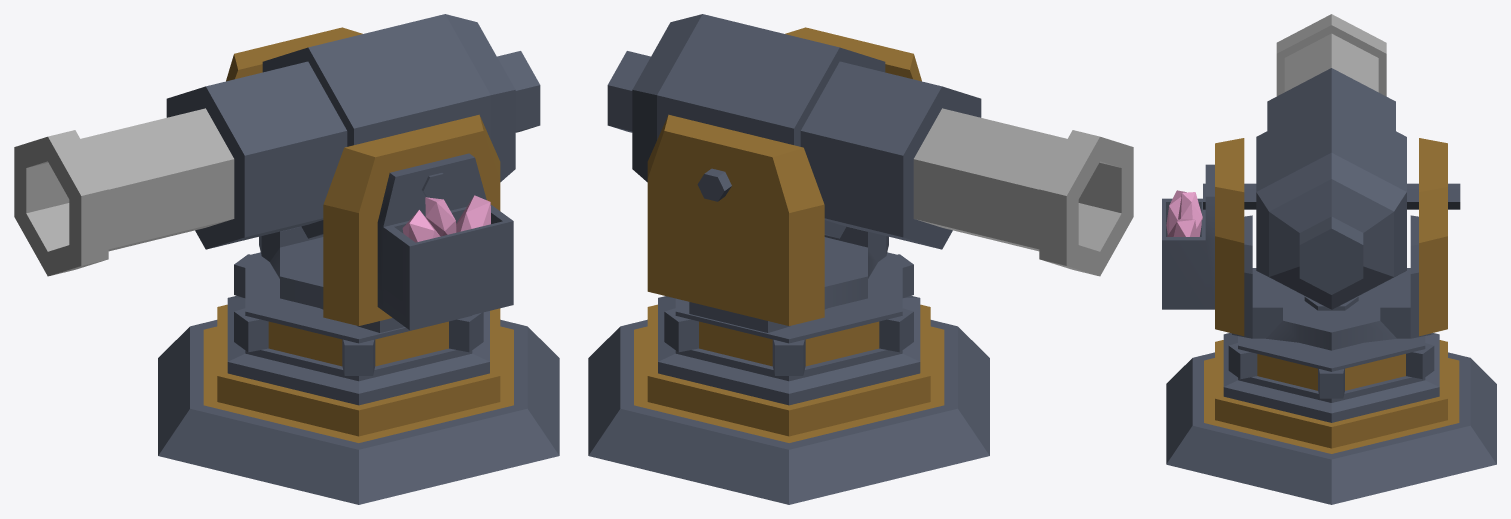
File: turret4_remodel.fbx
3 renders of one model, left to right at view 1: azimuth 30°, elevation 25°; view 2: azimuth 150°, elevation 25°; view 3: azimuth 270°, elevation 25°, orthographic. The views are drawn at different scales.
Parts seen in each view (by area): view 1: turret4new_head, turret4new_base; view 2: turret4new_head, turret4new_base; view 3: turret4new_head, turret4new_base.
Part boxes in pixels (x1,y1,x2,y2): turret4new_head: (14,14,540,332); turret4new_base: (158,252,559,504); turret4new_head: (607,14,1133,332); turret4new_base: (588,252,989,504); turret4new_head: (1162,14,1460,350); turret4new_base: (1166,296,1496,504).
Bounding box in the file's own units: 1.06 × 0.7343 × 0.7273.
